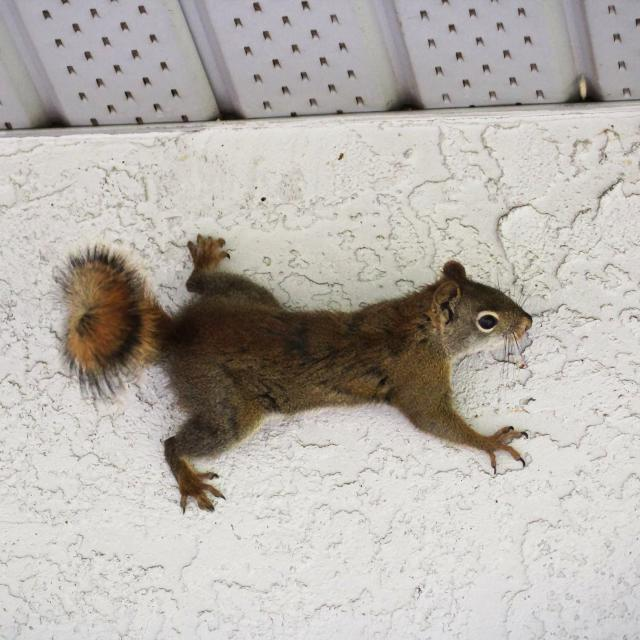squirrel: (55, 235, 532, 511)
